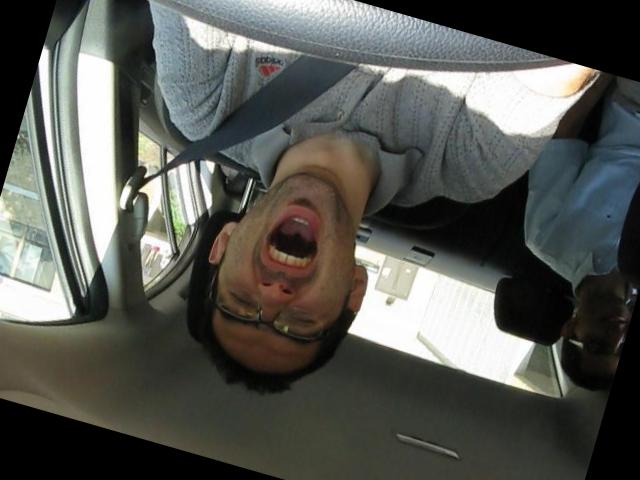eye_closed: (217, 282, 260, 317), (280, 304, 319, 336)
face: (197, 158, 361, 375)
mouth_open: (260, 208, 329, 277)
